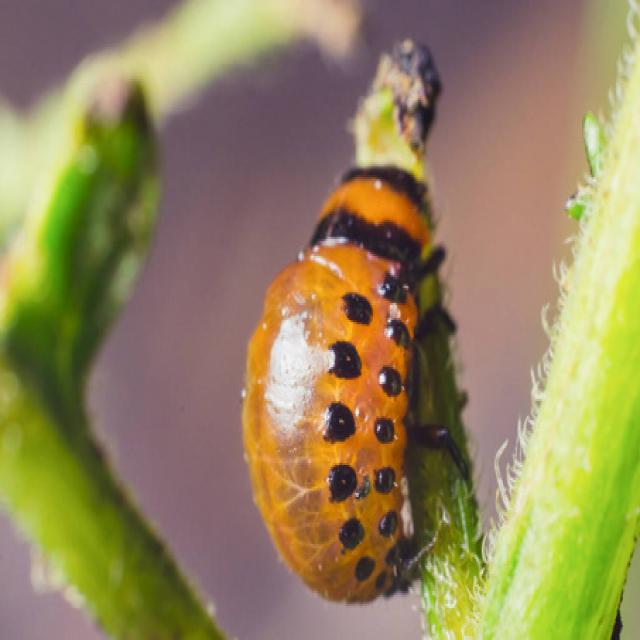ShuCaiHuaBanChong-Larva-: (236, 150, 445, 590)
